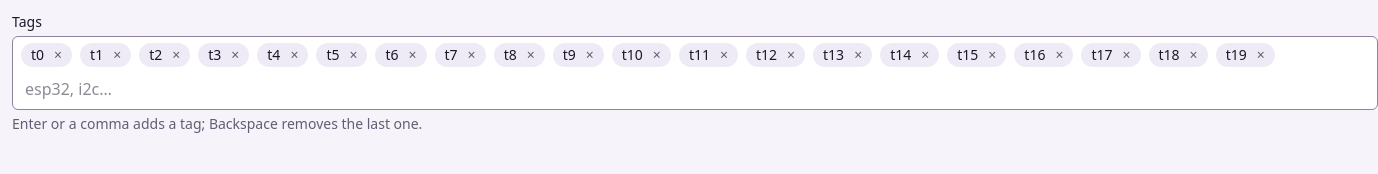
Scenario: TagInput › refuses a twenty-first tag
Type "one more" into the dropdown labelled "Tags".
click(695, 89); type("one more")  # box [21,75,1369,103]
Then press Enter
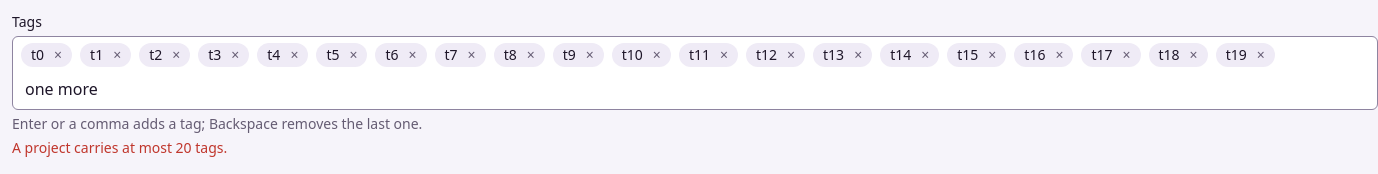
Now the message reads "A project carries at most 20 tags.", box [12,138,227,157]
